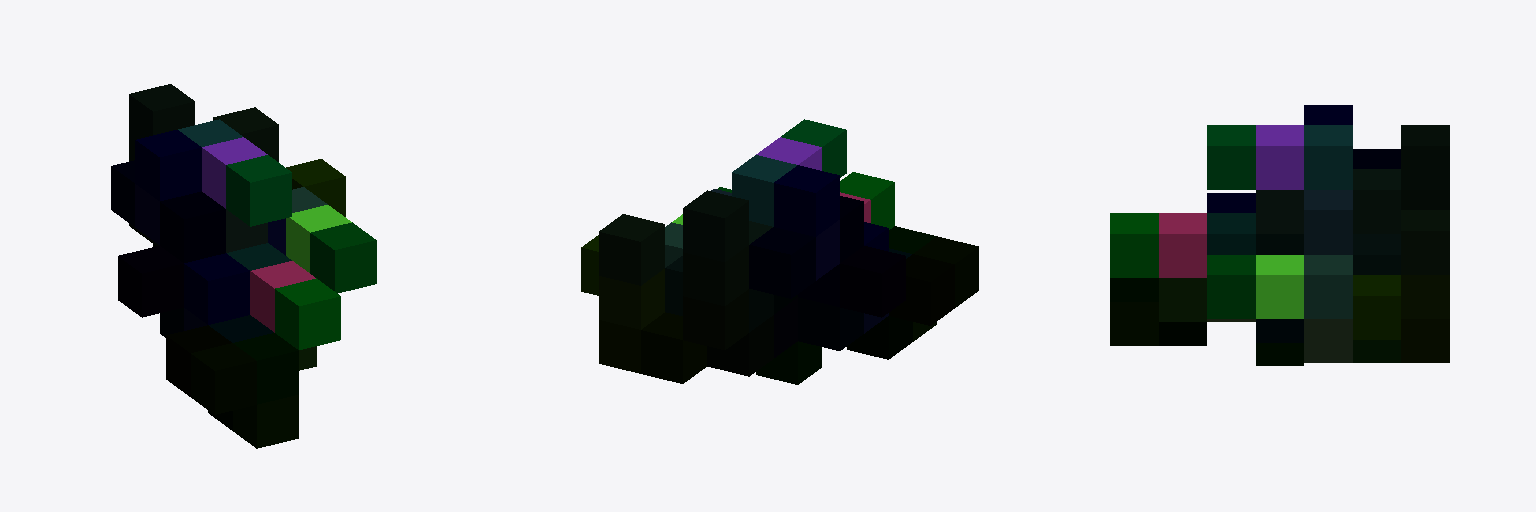
File: iter_10.obj
3 renders of one model, left to right at view 1: azimuth 30°, elevation 25°; view 2: azimuth 150°, elevation 25°; view 3: azimuth 270°, elevation 25°, orthographic.
Visible parts, largest first — view 1: iter_10; view 2: iter_10; view 3: iter_10.
Part boxes in pixels (x1,y1,x2,y2): iter_10: (111,84,376,448); iter_10: (581,119,978,384); iter_10: (1110,105,1449,365).
Size of the model in its own units: 0.6 by 0.5 by 0.7.